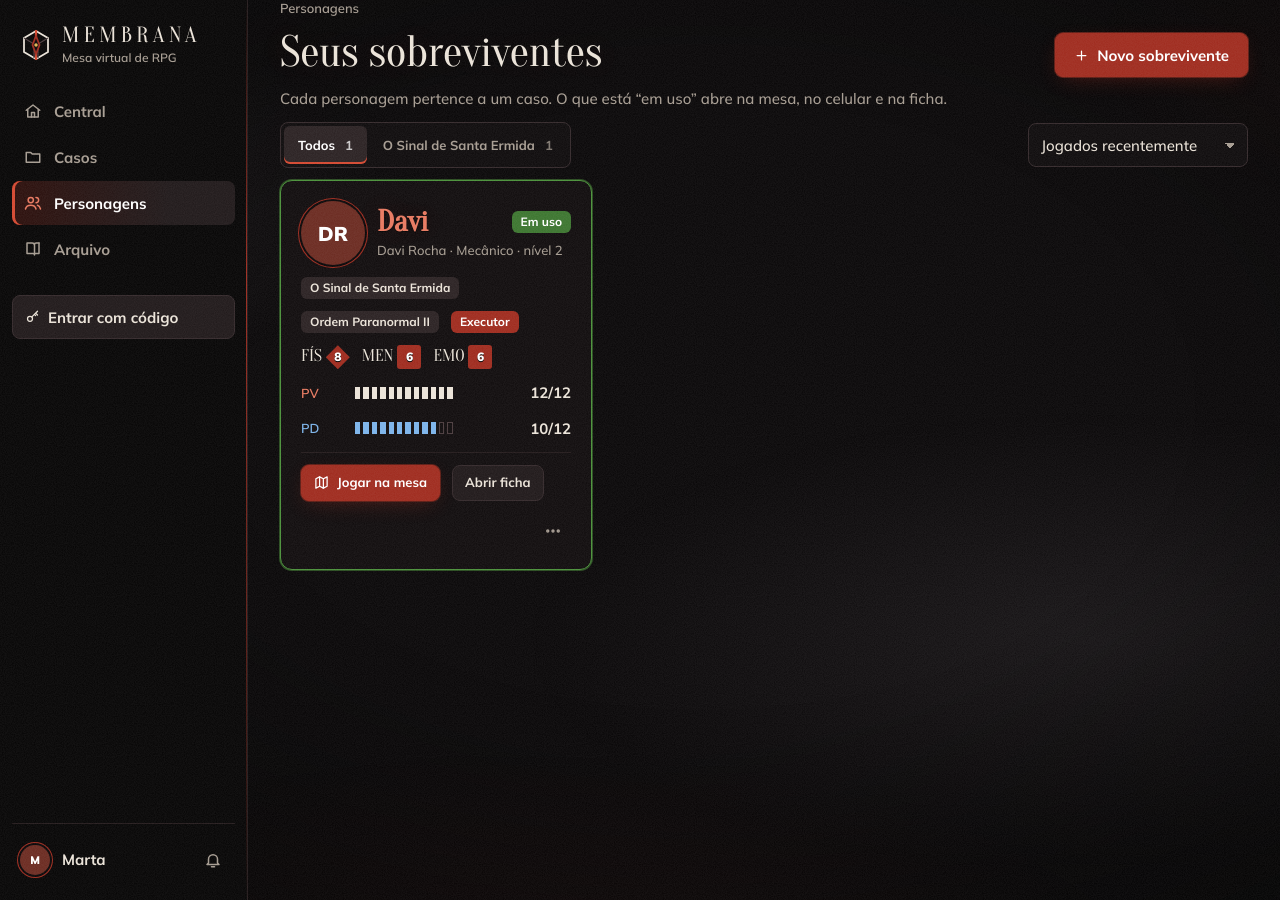
it: Remover › pede confirmação no cartão, explicando o que some; "Manter" desiste
Expected: the element "Davi" is shown, [280,180,592,570]
Click the button named "Mais ações para Davi": (553, 531) [535,513,571,549]
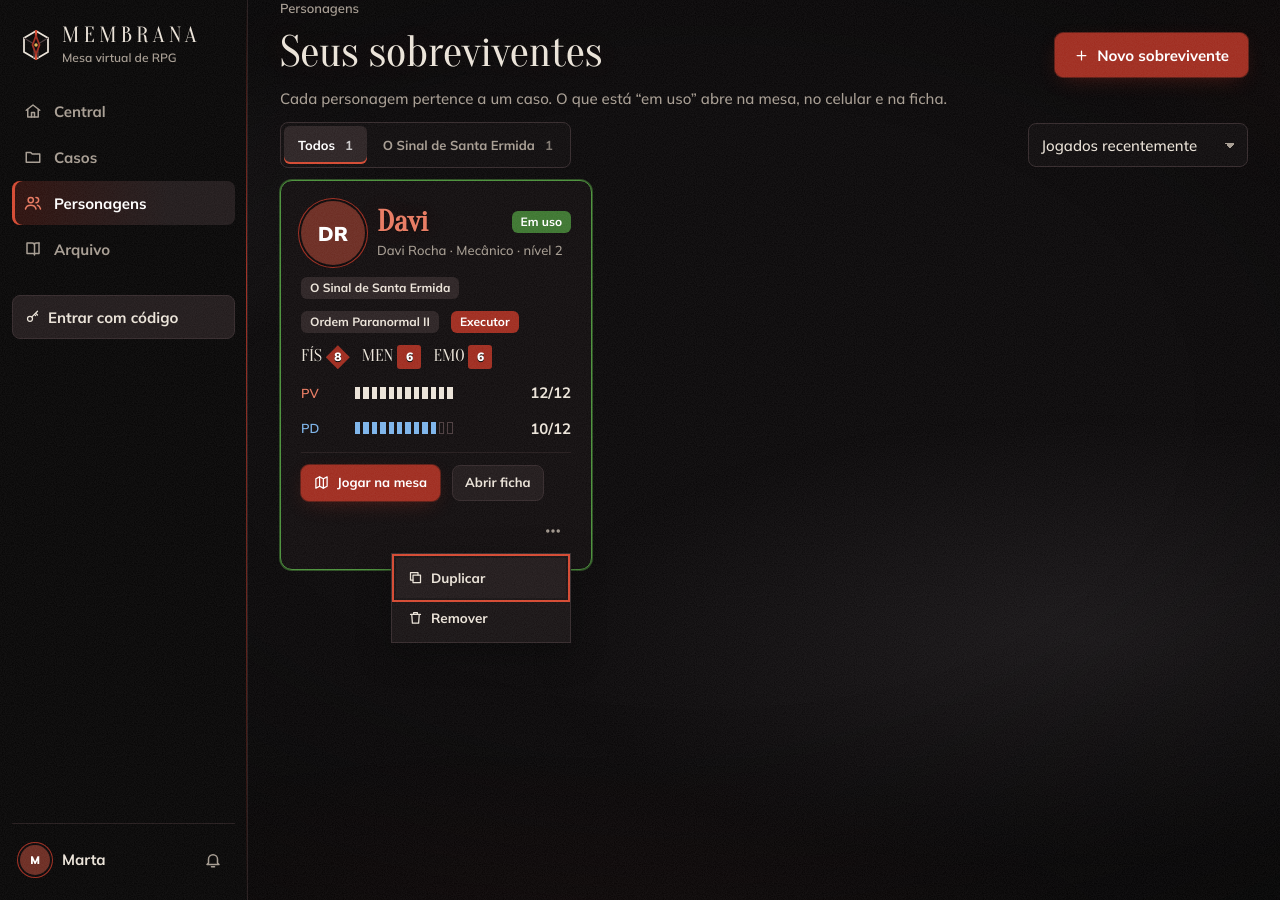
Click the menu item "Remover": (481, 618) [396,598,566,638]
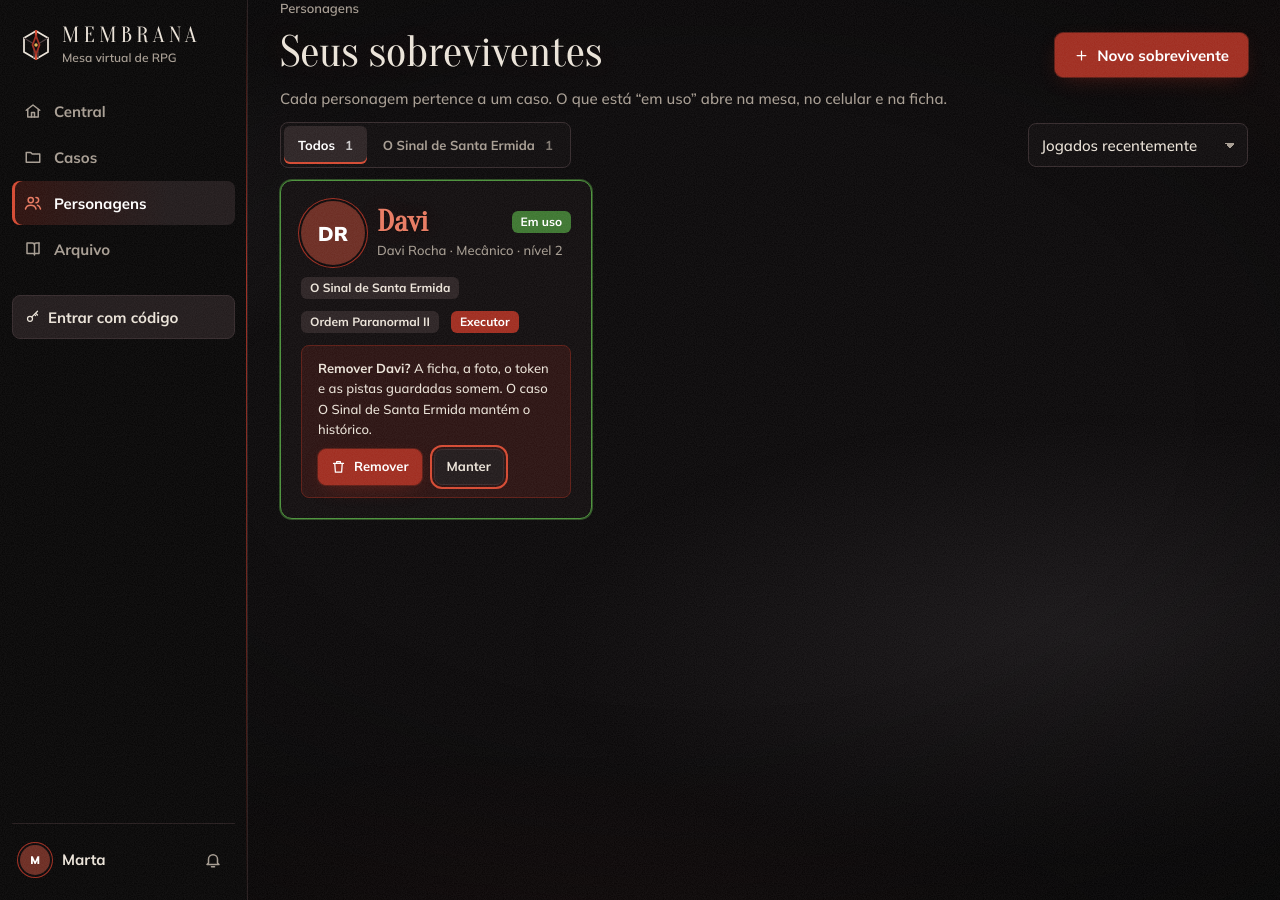
Result: the dialog named "Confirmar remoção de Davi" shows "A ficha, a foto, o token e as pistas guardadas somem. O caso O Sinal de Santa Ermida mantém o histórico." at [301,345,571,498]
Click the button "Manter": (469, 467) [434,449,504,485]
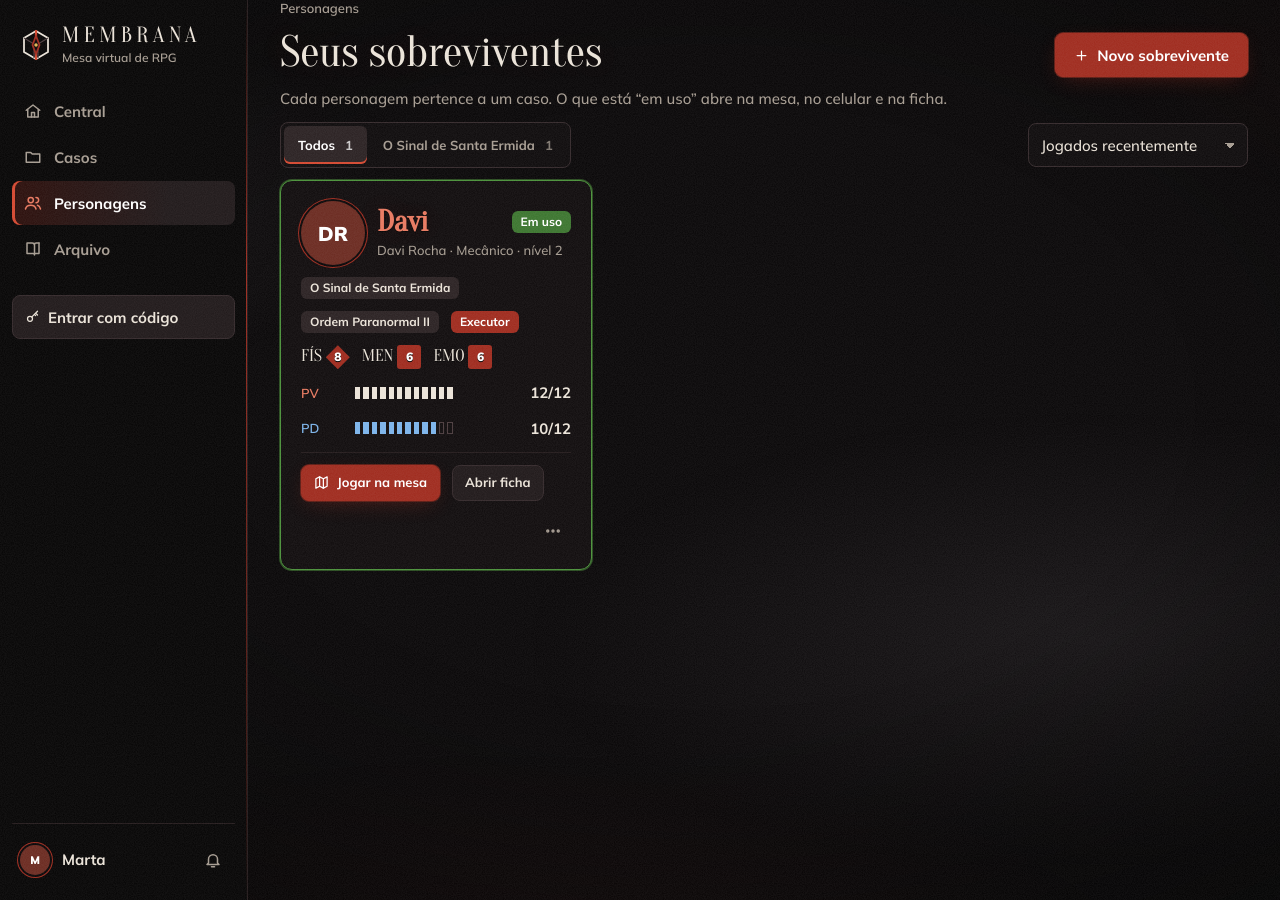
Result: the dialog is gone
